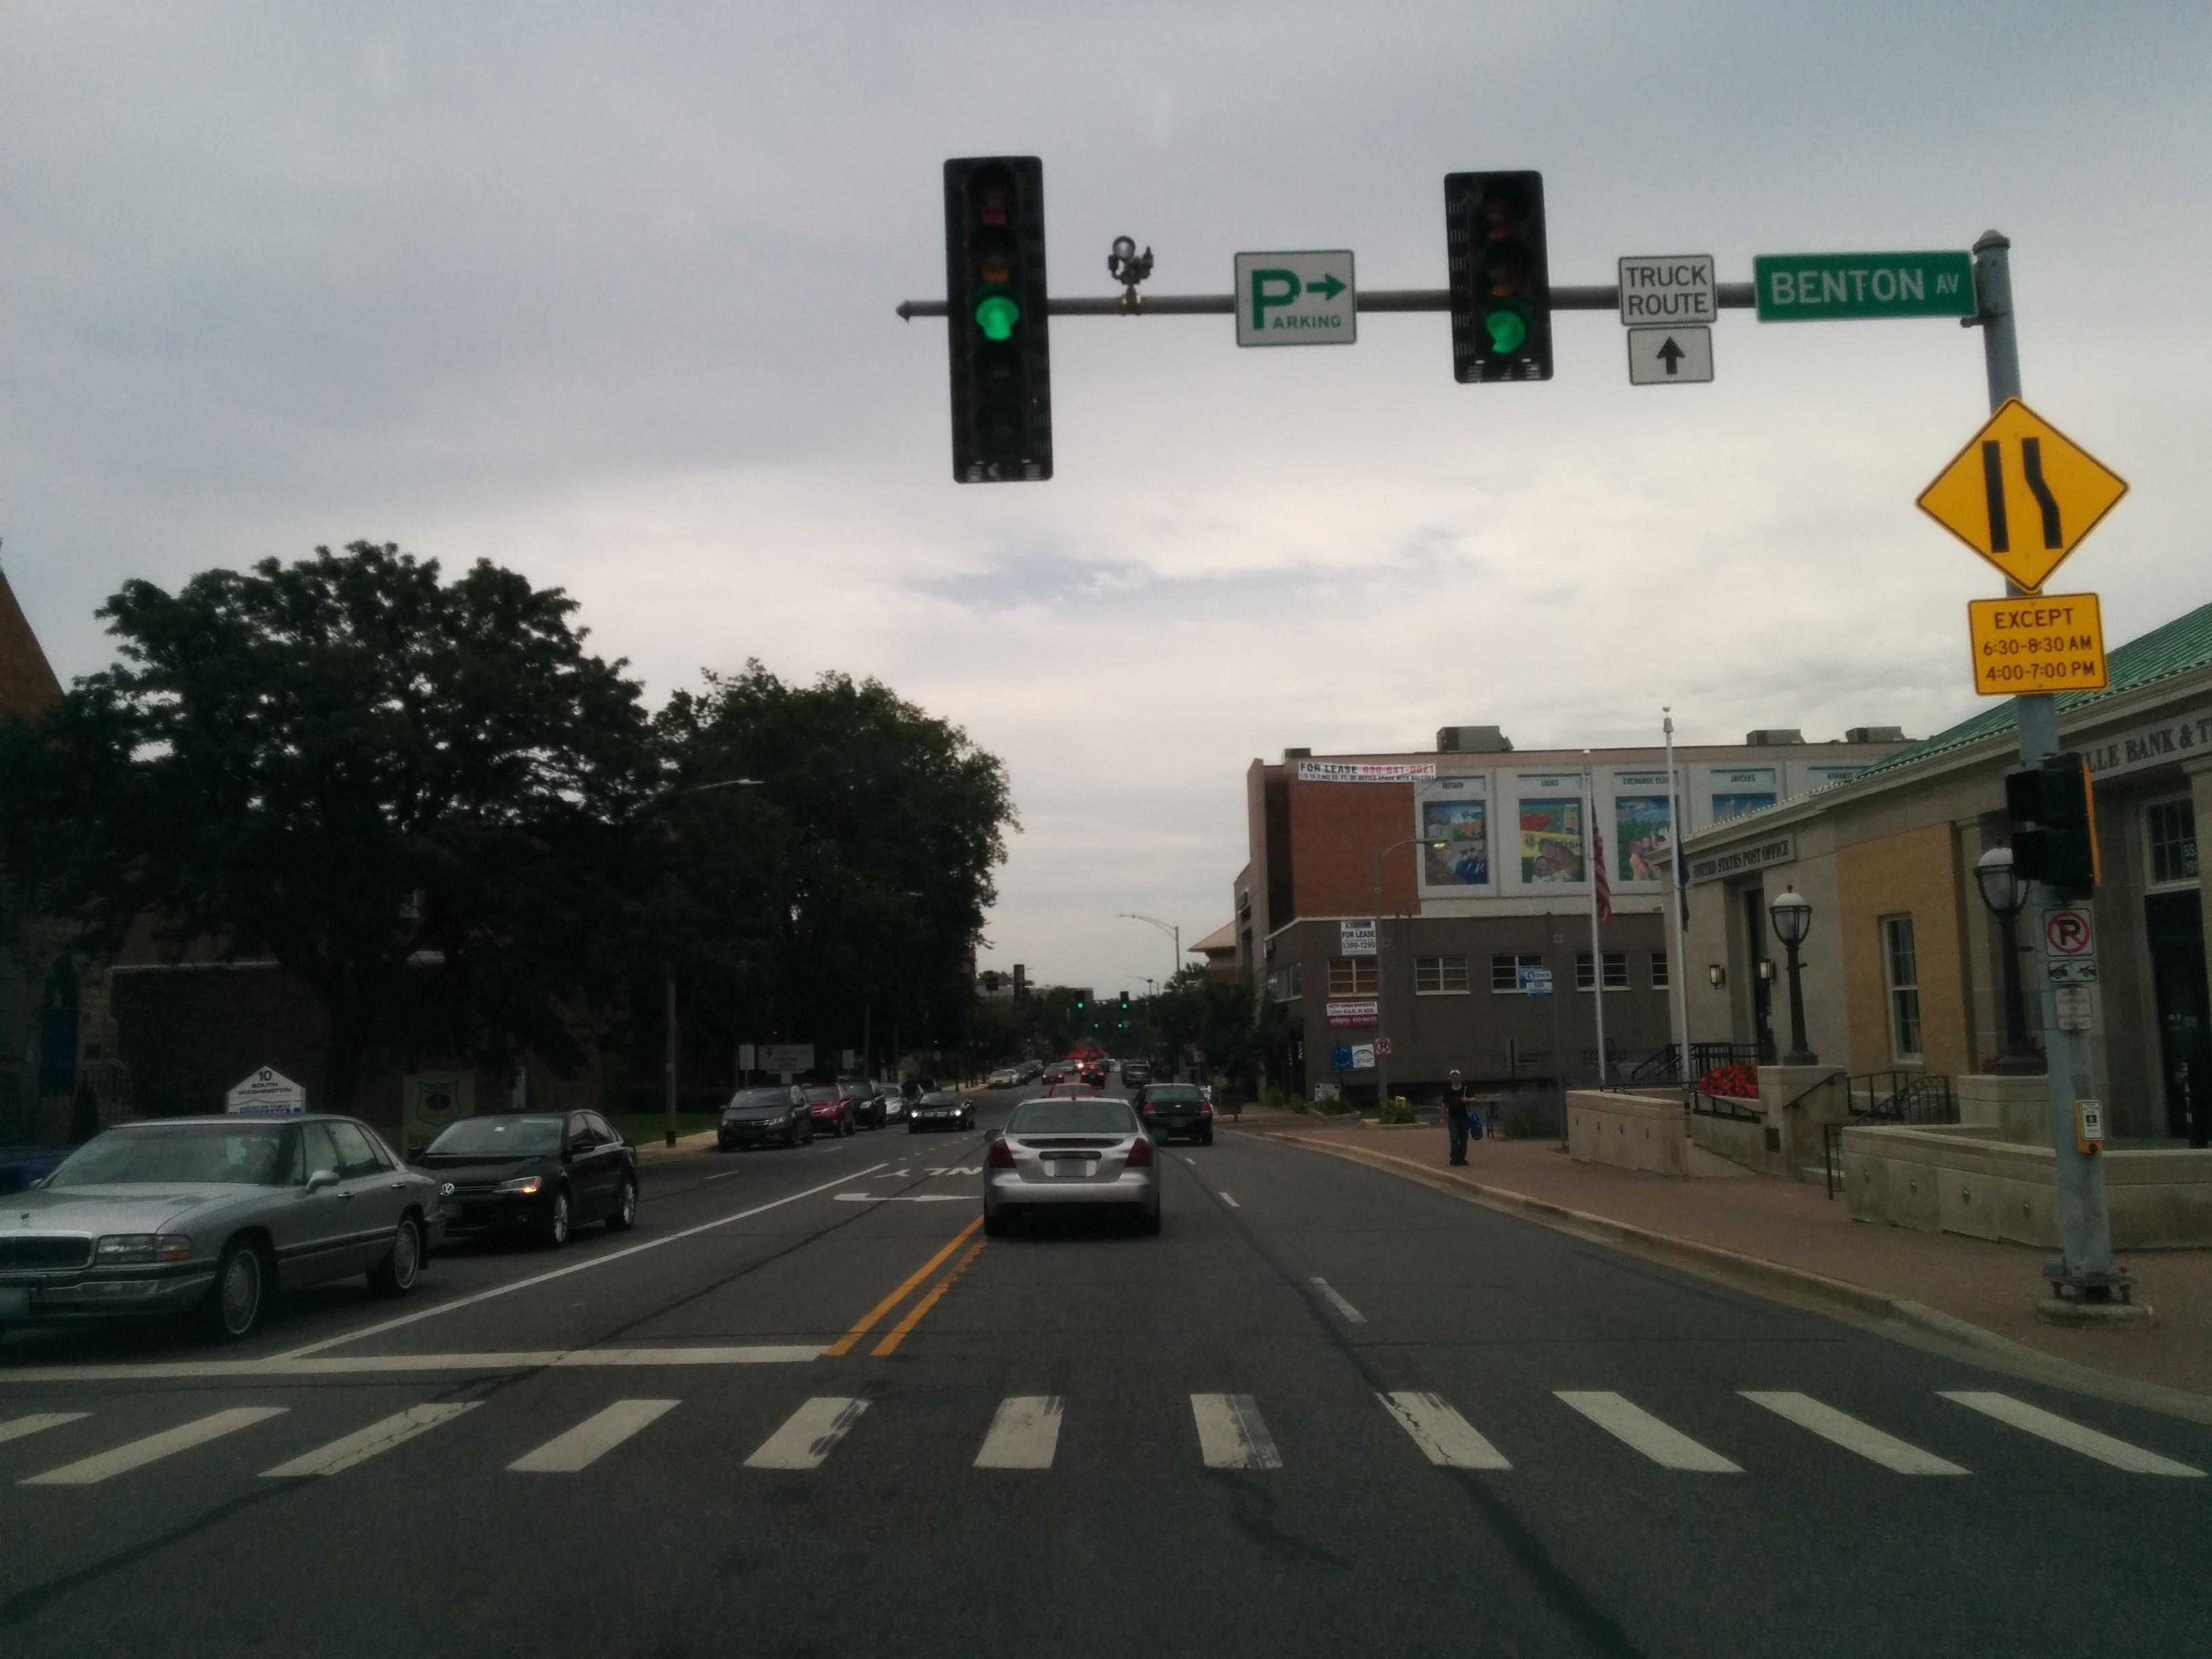vinyl banner: (1275, 739, 1442, 812), (1310, 917, 1399, 964), (1325, 995, 1393, 1033)
